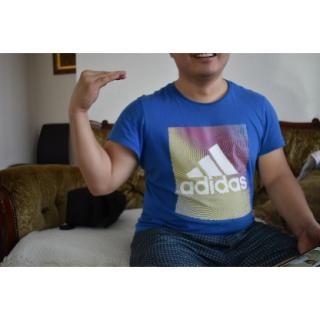HAA: (68, 66, 130, 114)
